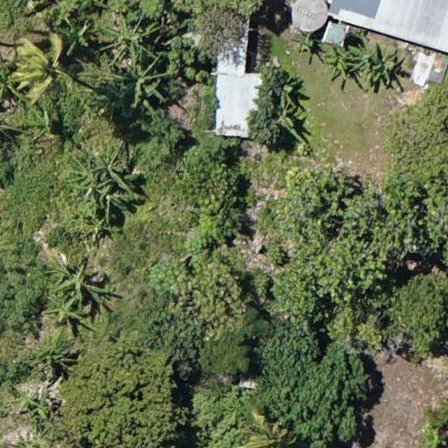palm_tree: (10, 31, 79, 101)
